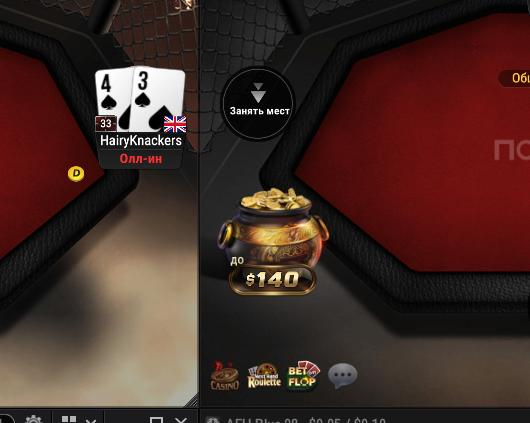3s: (132, 65, 185, 133)
4s: (94, 67, 133, 134)
